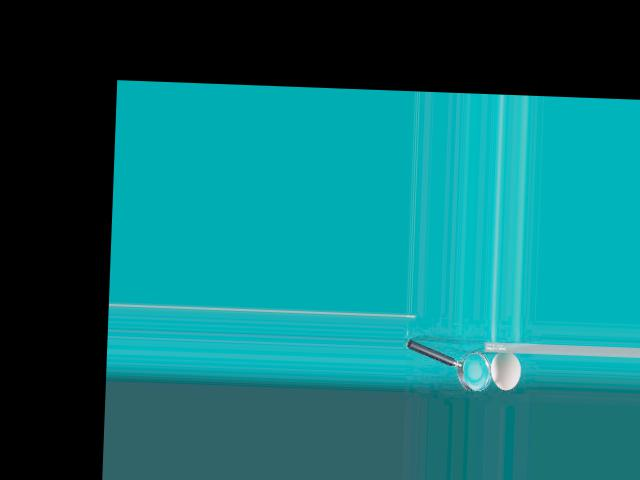egg: (490, 351, 522, 390)
